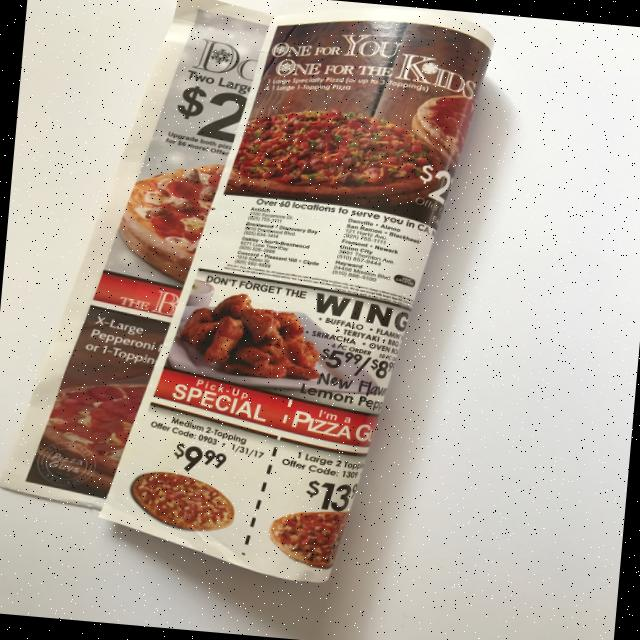paper: (91, 0, 496, 594)
